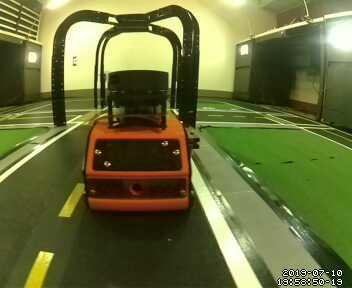pheeno: (81, 72, 198, 220)
